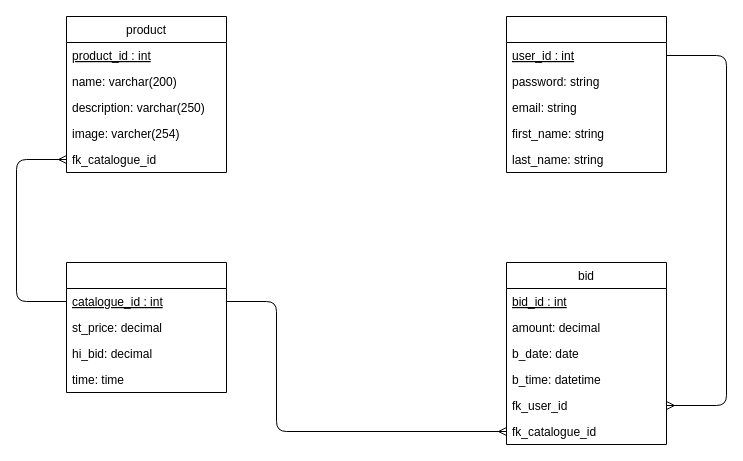
Some shapes in this 743 by 461 pixel diagram are drawn without their labels. The shapes that lost their labels are listed below. From the top down, each one's box as (x1, y1, x2, y2) in pixels, then its label:
(506, 16, 666, 172): costumer
(66, 262, 226, 392): set
